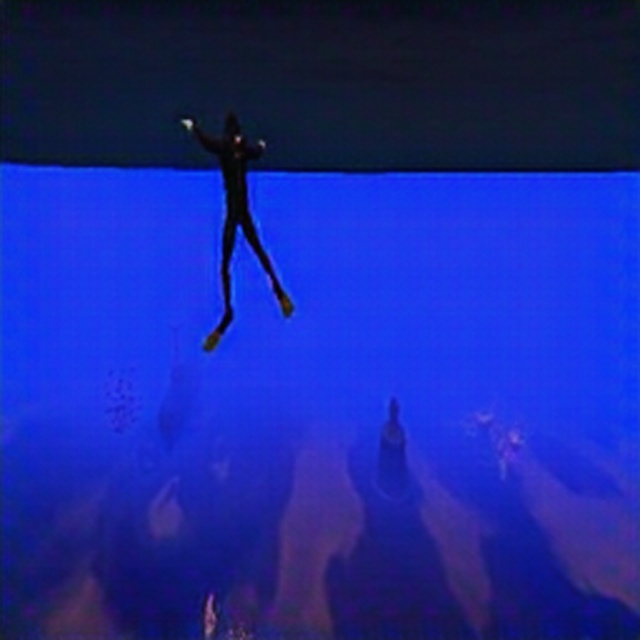diver: (180, 108, 294, 327)
